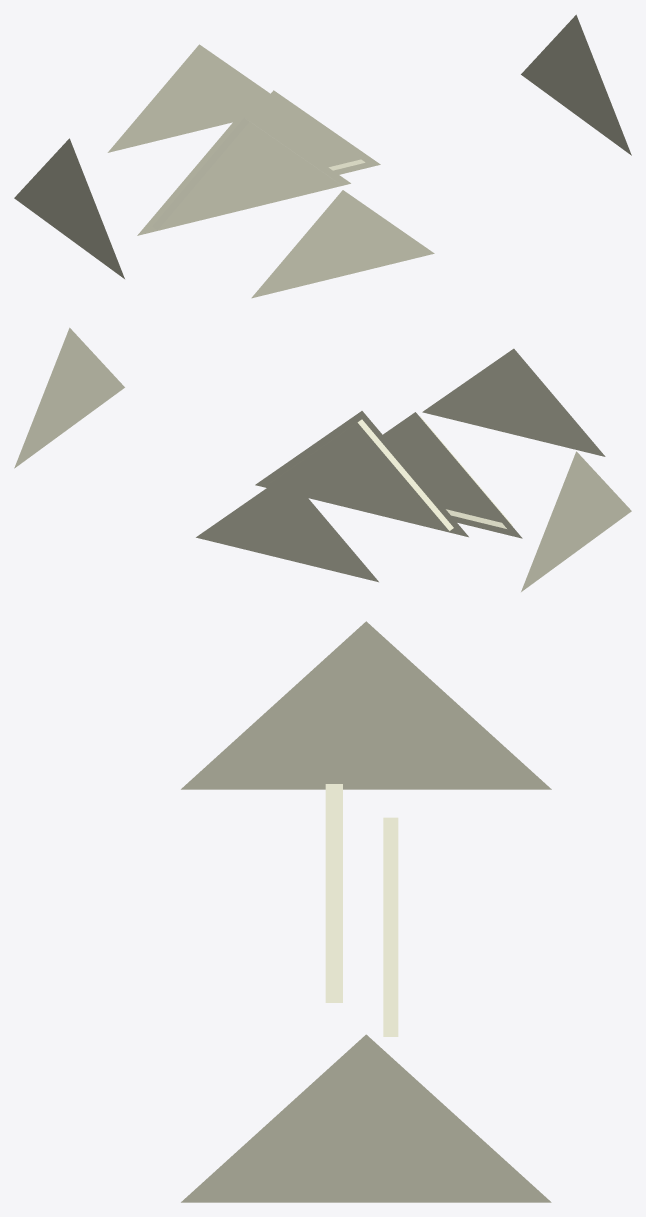
File: kitchen-siding.obj
3 renders of one model, top to bottom at view 1: azimuth 30°, elevation 25°; view 2: azimuth 150°, elevation 25°; view 3: azimuth 270°, elevation 25°, orthographic. The views are drawn at different scales.
Parts seen in each view (by area): view 1: roof_Cube.015; view 2: roof_Cube.015; view 3: roof_Cube.015.
Boxes of the visible parts, x1,y1,x2,y2 form: roof_Cube.015: (14, 14, 631, 298); roof_Cube.015: (14, 327, 631, 591); roof_Cube.015: (181, 621, 551, 1202).
Bounding box in the file's own units: 43.81 × 8.89 × 27.7.
1 material, 1 textured.
